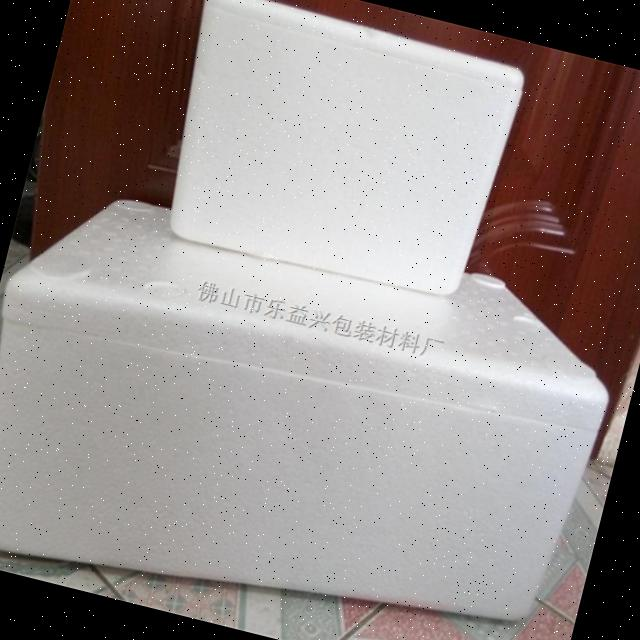styrofoam: (0, 159, 632, 640), (144, 0, 530, 310)
